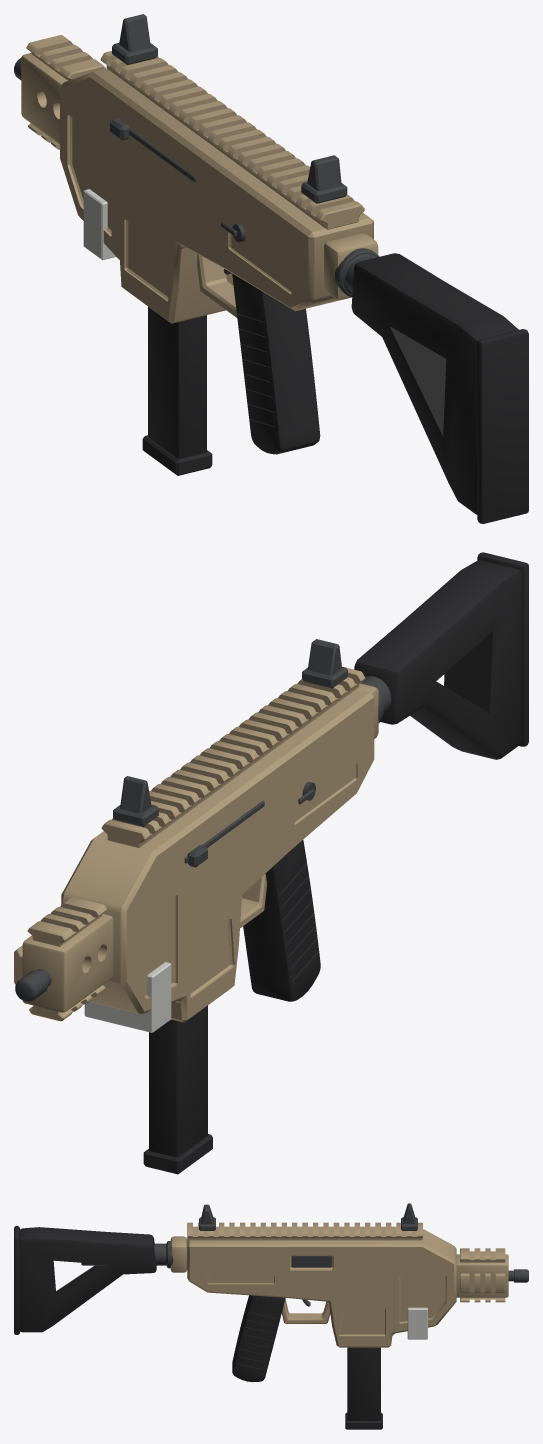
Rendered from VECTOR.glb.
3 views of the same model, one above another, from view 1: azimuth 30°, elevation 25°; view 2: azimuth 150°, elevation 25°; view 3: azimuth 270°, elevation 25° (orthographic). The views are drawn at different scales.
Visible parts, largest first — view 1: Body, Furniture, Mag, Metal, Tape; view 2: Body, Furniture, Mag, Metal, Tape; view 3: Body, Furniture, Mag, Metal, Tape.
Part boxes in pixels (left/top/right/bottom): Body: left=21, top=35, right=378, bottom=323; Furniture: left=232, top=253, right=528, bottom=523; Mag: left=142, top=306, right=212, bottom=475; Metal: left=14, top=14, right=379, bottom=296; Tape: left=83, top=189, right=116, bottom=260; Body: left=14, top=667, right=378, bottom=1022; Furniture: left=243, top=552, right=528, bottom=1001; Mag: left=143, top=1005, right=212, bottom=1174; Metal: left=15, top=639, right=391, bottom=1001; Tape: left=84, top=962, right=171, bottom=1032; Body: left=170, top=1222, right=508, bottom=1347; Furniture: left=14, top=1226, right=285, bottom=1382; Mag: left=345, top=1347, right=382, bottom=1429; Metal: left=81, top=1203, right=528, bottom=1306; Tape: left=407, top=1307, right=427, bottom=1339.
Bounding box in the file's own units: 0.286 × 1.44 × 3.06.
